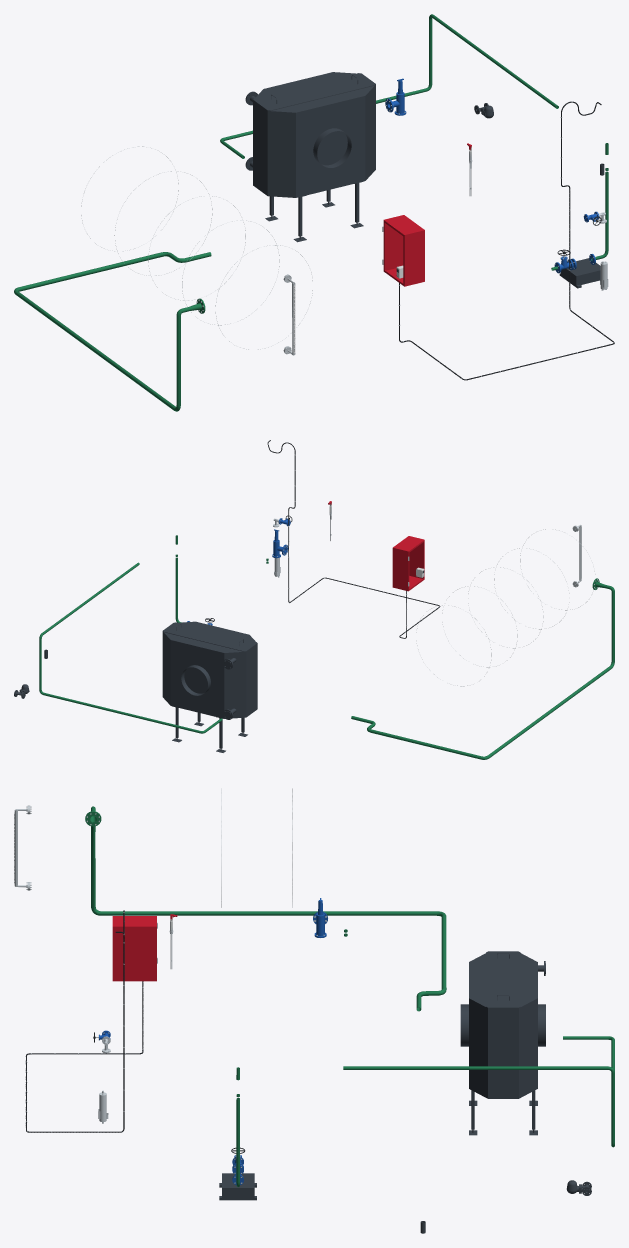
Rendered from s4000-2-DAR7hNaM.glb.
The picture shows the model from 3 angles, top to bottom: view 1: azimuth 30°, elevation 25°; view 2: azimuth 150°, elevation 25°; view 3: azimuth 270°, elevation 25°; orthographic projection. The views are drawn at different scales.
Parts seen in each view (by area): view 1: EQS2-5000 CAD 0, EQS2-5000 CAD 3, deaerator_feed / green, control_cabinet / control_cabinet_0.npz, EQS2-5000 CAD 1, to_economizer / green, wiring_pressure_switch_2 / black, deaerator_details / steel, pump_branch_1 / dark; view 2: EQS2-5000 CAD 0, EQS2-5000 CAD 3, deaerator_feed / green, EQS2-5000 CAD 2, control_cabinet / control_cabinet_0.npz, to_economizer / green, wiring_pressure_switch_2 / black, deaerator_details / steel; view 3: EQS2-5000 CAD 3, deaerator_feed / green, control_cabinet / control_cabinet_0.npz, to_economizer / green, EQS2-5000 CAD 0, wiring_pressure_switch_2 / black, pump_branch_1 / dark, deaerator_details / steel.
Boxes of the visible parts, left/top/right/bottom form: EQS2-5000 CAD 0: left=265, top=96, right=365, bottom=242; EQS2-5000 CAD 3: left=253, top=72, right=375, bottom=195; deaerator_feed / green: left=14, top=252, right=211, bottom=411; control_cabinet / control_cabinet_0.npz: left=382, top=215, right=424, bottom=286; EQS2-5000 CAD 1: left=267, top=111, right=295, bottom=197; to_economizer / green: left=220, top=14, right=558, bottom=158; wiring_pressure_switch_2 / black: left=399, top=101, right=614, bottom=380; deaerator_details / steel: left=81, top=146, right=312, bottom=355; pump_branch_1 / dark: left=559, top=258, right=600, bottom=288; EQS2-5000 CAD 0: left=170, top=640, right=247, bottom=752; EQS2-5000 CAD 3: left=162, top=621, right=257, bottom=717; deaerator_feed / green: left=351, top=578, right=614, bottom=759; EQS2-5000 CAD 2: left=223, top=651, right=246, bottom=719; control_cabinet / control_cabinet_0.npz: left=392, top=536, right=424, bottom=591; to_economizer / green: left=39, top=562, right=222, bottom=733; wiring_pressure_switch_2 / black: left=267, top=440, right=440, bottom=638; deaerator_details / steel: left=416, top=525, right=595, bottom=686; EQS2-5000 CAD 3: left=469, top=951, right=537, bottom=1098; deaerator_feed / green: left=85, top=806, right=446, bottom=1011; control_cabinet / control_cabinet_0.npz: left=112, top=916, right=157, bottom=981; to_economizer / green: left=343, top=1036, right=614, bottom=1147; EQS2-5000 CAD 0: left=460, top=1004, right=545, bottom=1135; wiring_pressure_switch_2 / black: left=25, top=910, right=143, bottom=1132; pump_branch_1 / dark: left=219, top=1173, right=256, bottom=1200; deaerator_details / steel: left=14, top=788, right=292, bottom=907.
Size of the model in its own units: 8.51 by 3.24 by 7.15.
